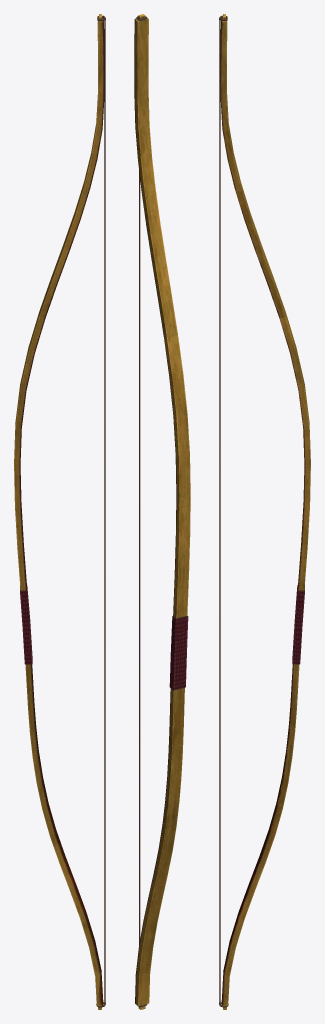
File: yumi.glb
3 renders of one model, left to right at view 1: azimuth 90°, elevation 25°; view 2: azimuth 210°, elevation 25°; view 3: azimuth 270°, elevation 25°, orthographic.
Parts seen in each view (by area): view 1: Object_125; view 2: Object_125; view 3: Object_125.
Part boxes in pixels (x1,y1,x2,y2): Object_125: (14, 14, 105, 1009); Object_125: (134, 14, 190, 1009); Object_125: (219, 14, 310, 1009).
Bounding box in the file's own units: 0.0264 × 2.04 × 0.1709.
1 material, 1 textured.
